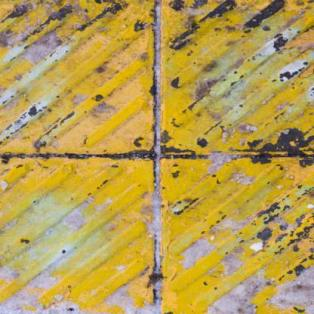Podoctatil: (4, 2, 311, 314)
